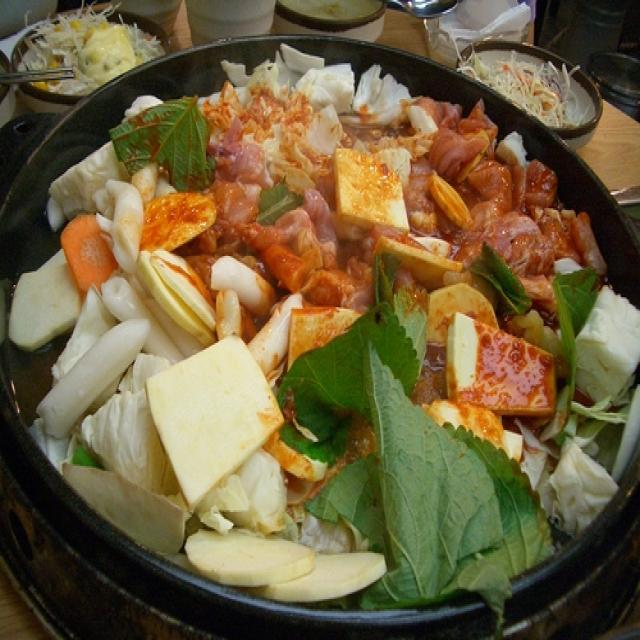鸡肉料理 含炸鸡: (18, 24, 634, 614)
